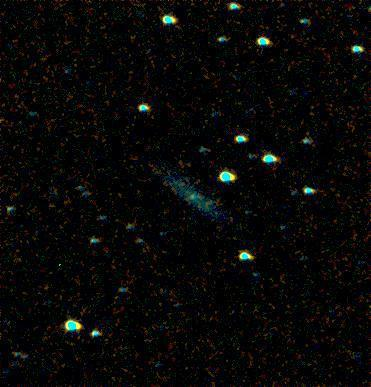star: (200, 198, 230, 228)
